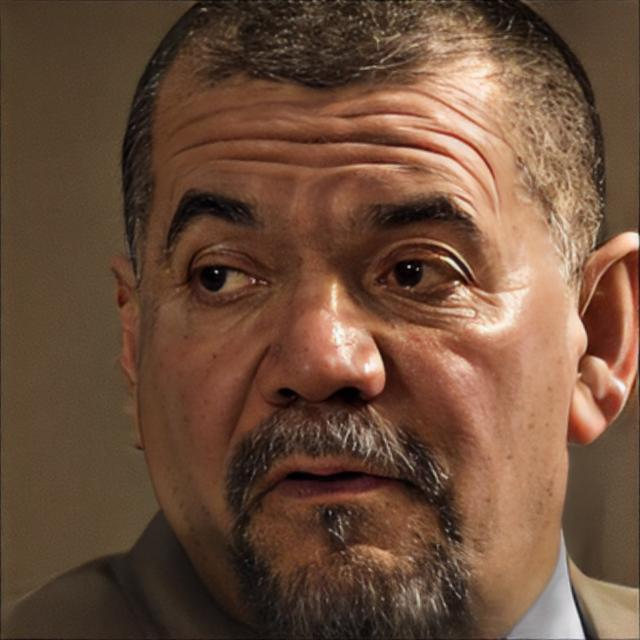surprise: (137, 27, 568, 624)
